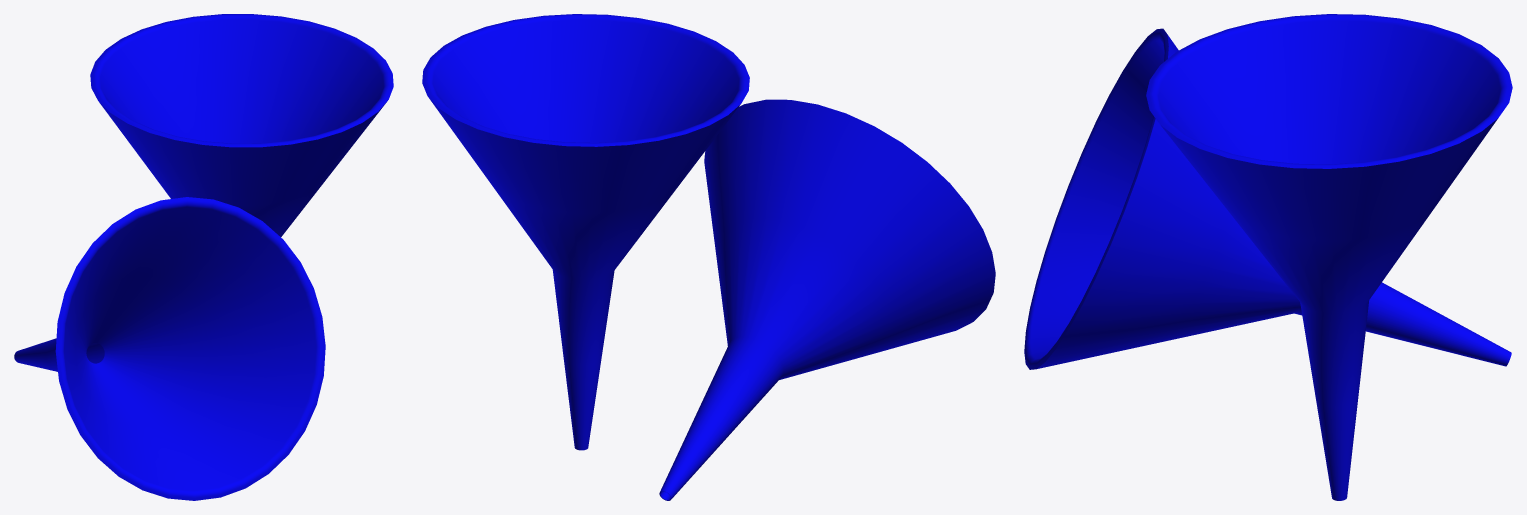
Rendered from funnel.glb.
3 views of the same model, side by side, from view 1: azimuth 30°, elevation 25°; view 2: azimuth 150°, elevation 25°; view 3: azimuth 270°, elevation 25° (orthographic). The views are drawn at different scales.
Parts seen in each view (by area): view 1: Cylinder_Material.001_0.002, Cylinder_Material.001_0.001; view 2: Cylinder_Material.001_0.002, Cylinder_Material.001_0.001; view 3: Cylinder_Material.001_0.001, Cylinder_Material.001_0.002.
Part boxes in pixels (box(x1,y1,x2,y2)): Cylinder_Material.001_0.002: box(14, 197, 325, 500); Cylinder_Material.001_0.001: box(90, 14, 393, 236); Cylinder_Material.001_0.002: box(659, 99, 995, 500); Cylinder_Material.001_0.001: box(422, 14, 749, 450); Cylinder_Material.001_0.001: box(1146, 14, 1512, 500); Cylinder_Material.001_0.002: box(1024, 28, 1511, 369).
Size of the model in its own units: 7.32 by 5.81 by 6.25.
